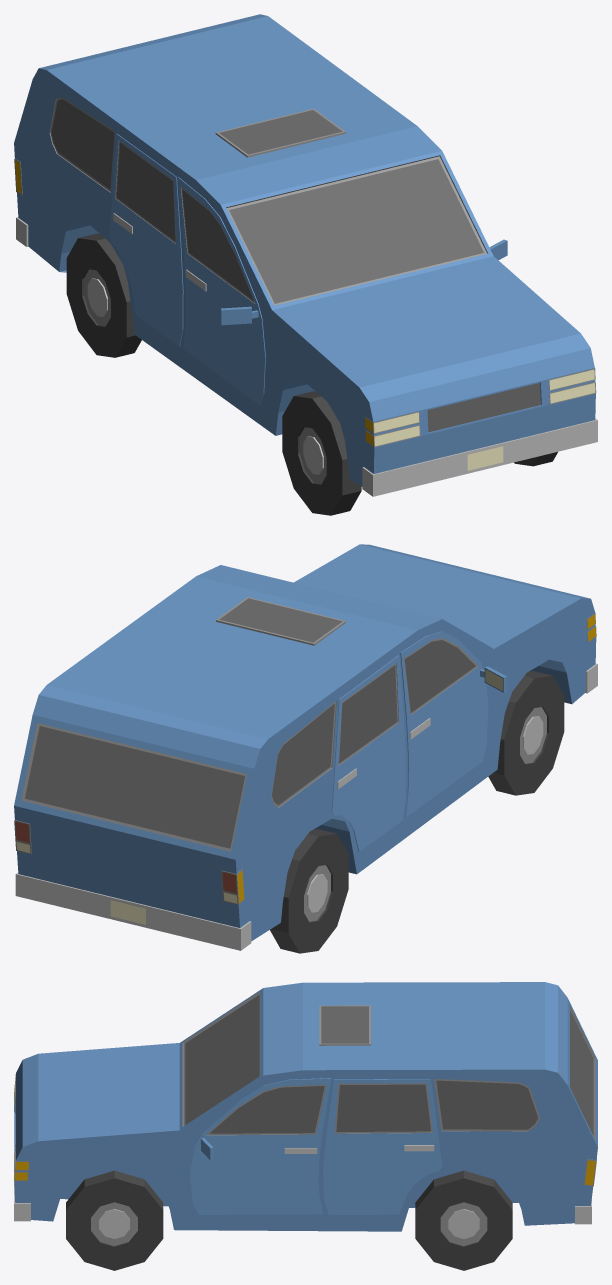
The model's file is SUV.fbx.
3 views of the same model, one above another, from view 1: azimuth 30°, elevation 25°; view 2: azimuth 150°, elevation 25°; view 3: azimuth 270°, elevation 25° (orthographic). The views are drawn at different scales.
Parts seen in each view (by area): view 1: fg, Cylinder_2_3, Cylinder_2_1; view 2: fg, Cylinder_2_1, Cylinder_2_3; view 3: fg, Cylinder_2, Cylinder_2_2.
Part boxes in pixels (x1,y1,x2,y2): fg: (14,14,597,496); Cylinder_2_3: (282,391,361,515); Cylinder_2_1: (66,233,141,357); fg: (14,544,597,950); Cylinder_2_1: (270,829,348,953); Cylinder_2_3: (488,671,564,795); fg: (14,982,597,1231); Cylinder_2: (415,1170,512,1270); Cylinder_2_2: (66,1170,163,1270).
Bounding box in the file's own units: 169 × 141 × 369.
